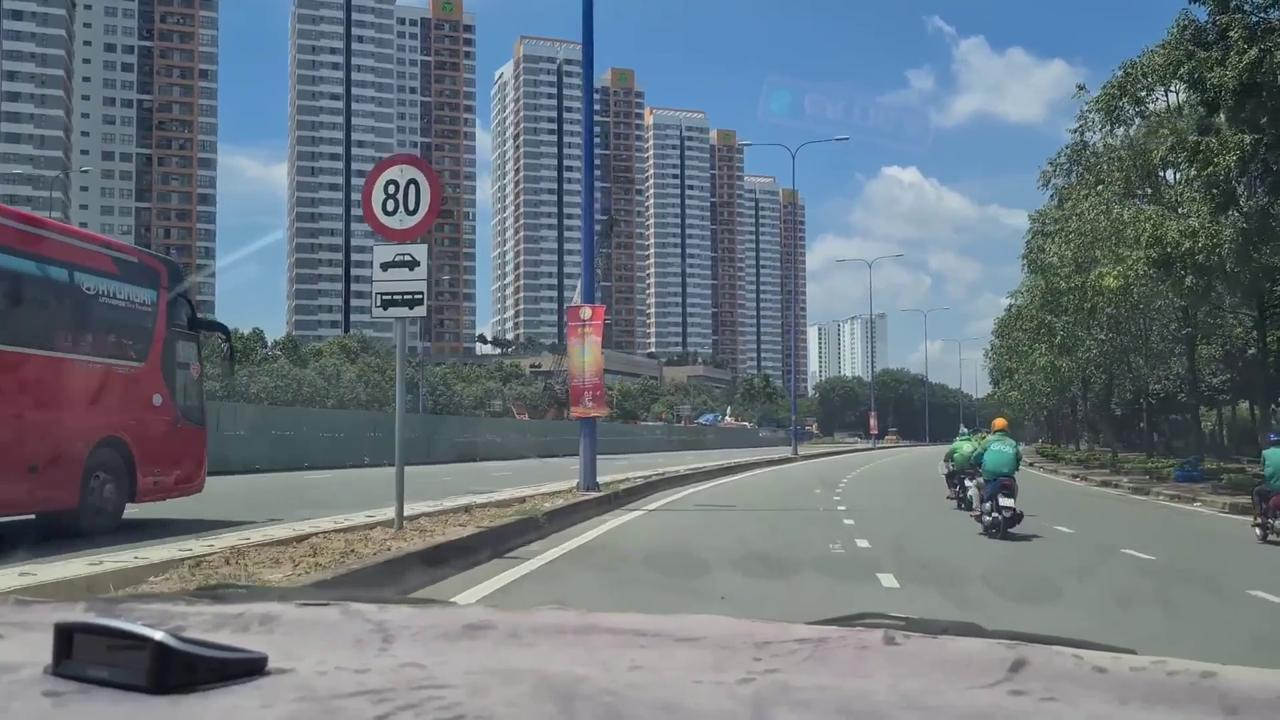Biển phụ: (369, 240, 428, 318)
Giới hạn tốc độ 80Km/h: (358, 150, 447, 244)
